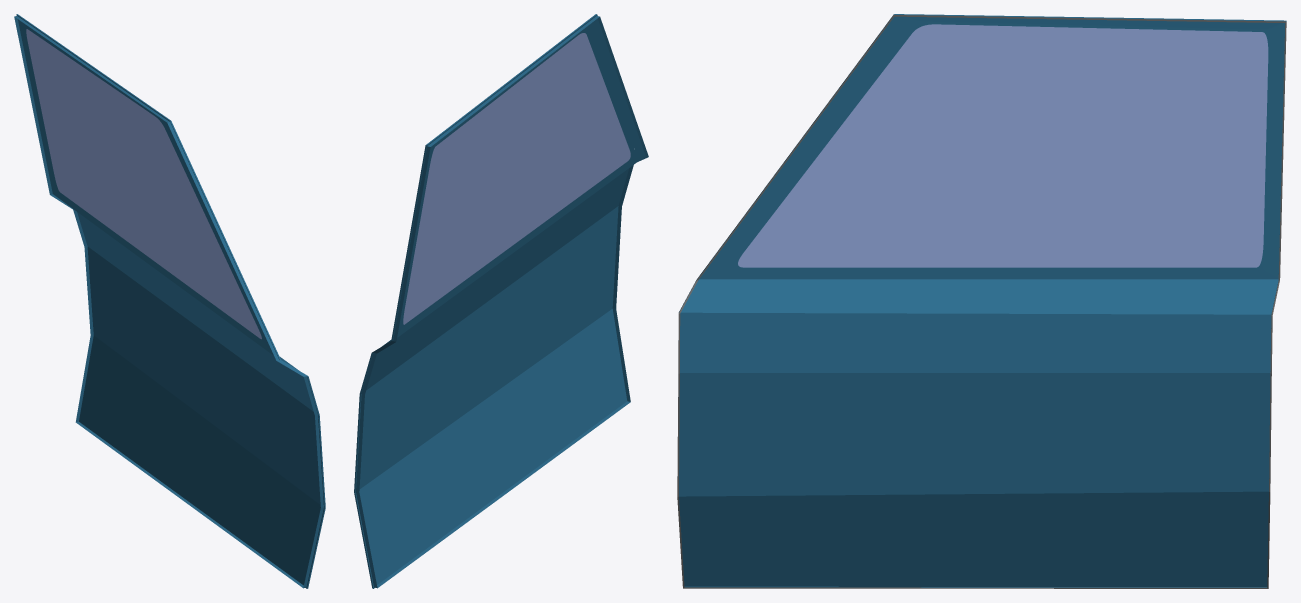
Rendered from front_door.fbx.
3 renders of one model, left to right at view 1: azimuth 30°, elevation 25°; view 2: azimuth 150°, elevation 25°; view 3: azimuth 270°, elevation 25°, orthographic. The views are drawn at different scales.
Visible parts, largest first — view 1: Front Doors; view 2: Front Doors; view 3: Front Doors.
Boxes of the visible parts, x1=… form: Front Doors: x1=14, y1=14, x2=325, y2=588; Front Doors: x1=354, y1=14, x2=648, y2=588; Front Doors: x1=677, y1=14, x2=1286, y2=588.
Bounding box in the file's own units: 22.4 × 121 × 124.
